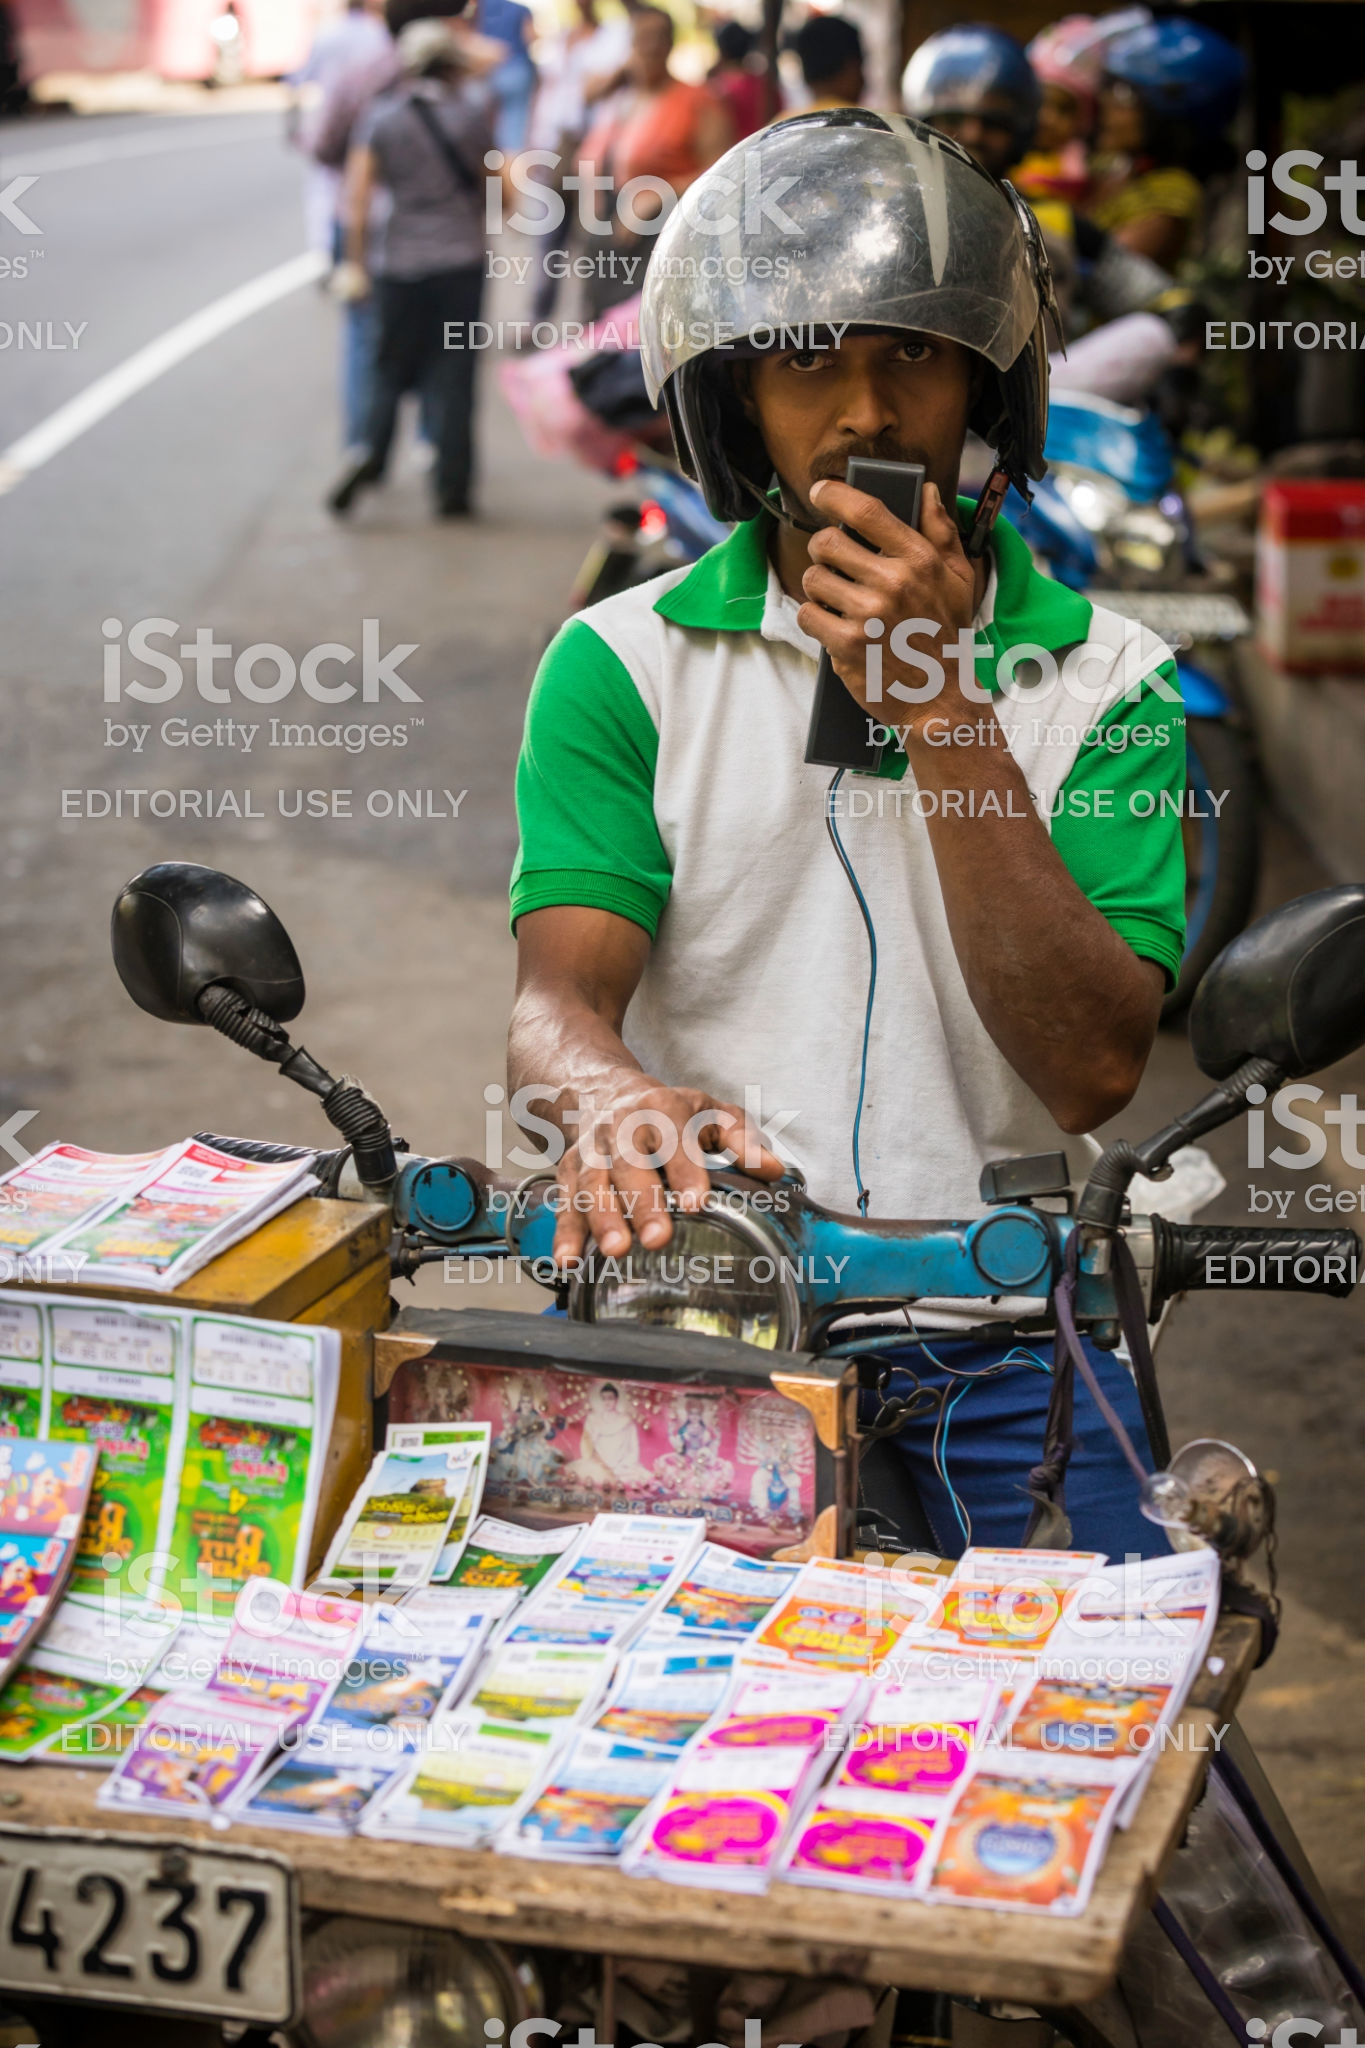helmet: (596, 97, 1117, 525)
